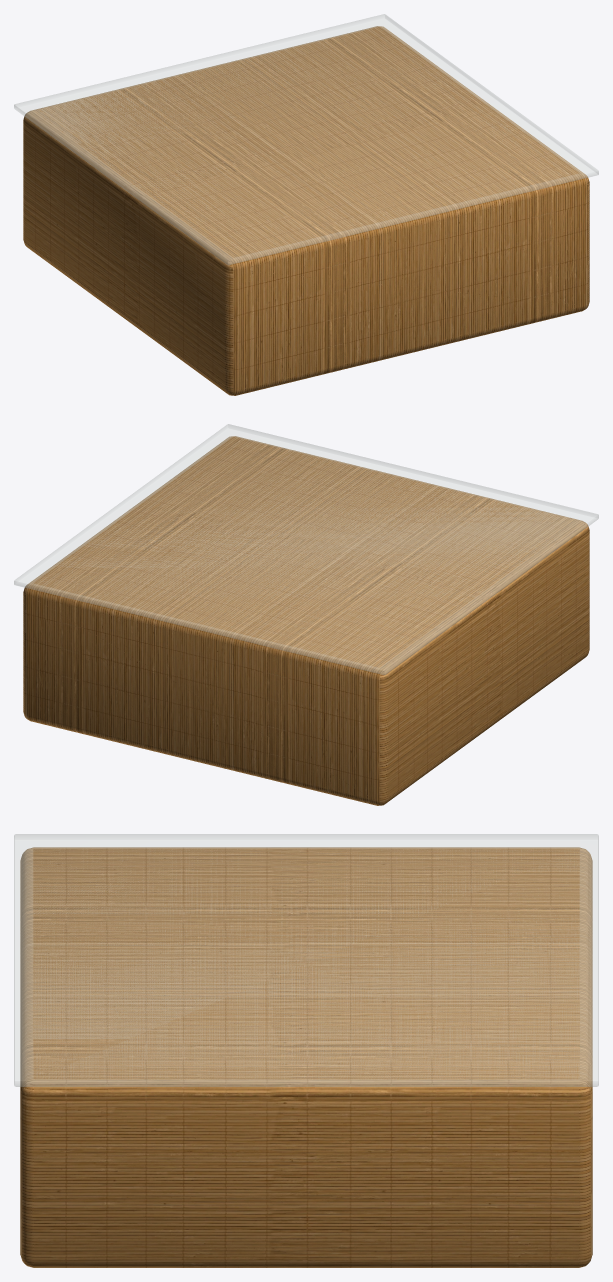
Rendered from mesa_centro_exterior_ratan.glb.
The picture shows the model from 3 angles, top to bottom: view 1: azimuth 30°, elevation 25°; view 2: azimuth 150°, elevation 25°; view 3: azimuth 270°, elevation 25°; orthographic projection. The views are drawn at different scales.
Visible parts, largest first — view 1: mesa_centro_exterior_ratan; view 2: mesa_centro_exterior_ratan; view 3: mesa_centro_exterior_ratan.
Part boxes in pixels (bbox=[...]): mesa_centro_exterior_ratan: bbox=[14, 14, 598, 395]; mesa_centro_exterior_ratan: bbox=[14, 424, 598, 805]; mesa_centro_exterior_ratan: bbox=[14, 834, 598, 1267].
Bounding box in the file's own units: 0.9 × 0.33 × 0.9.
Materials: 2 (1 with a texture image).
